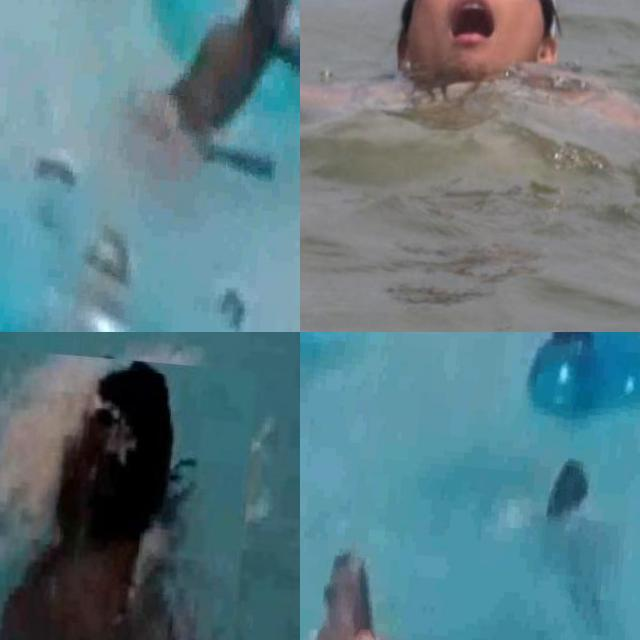drowning: (300, 0, 640, 224), (0, 347, 257, 640), (478, 428, 640, 601), (0, 0, 68, 223)
swimming: (137, 0, 300, 187), (300, 535, 429, 640), (504, 332, 640, 401)
